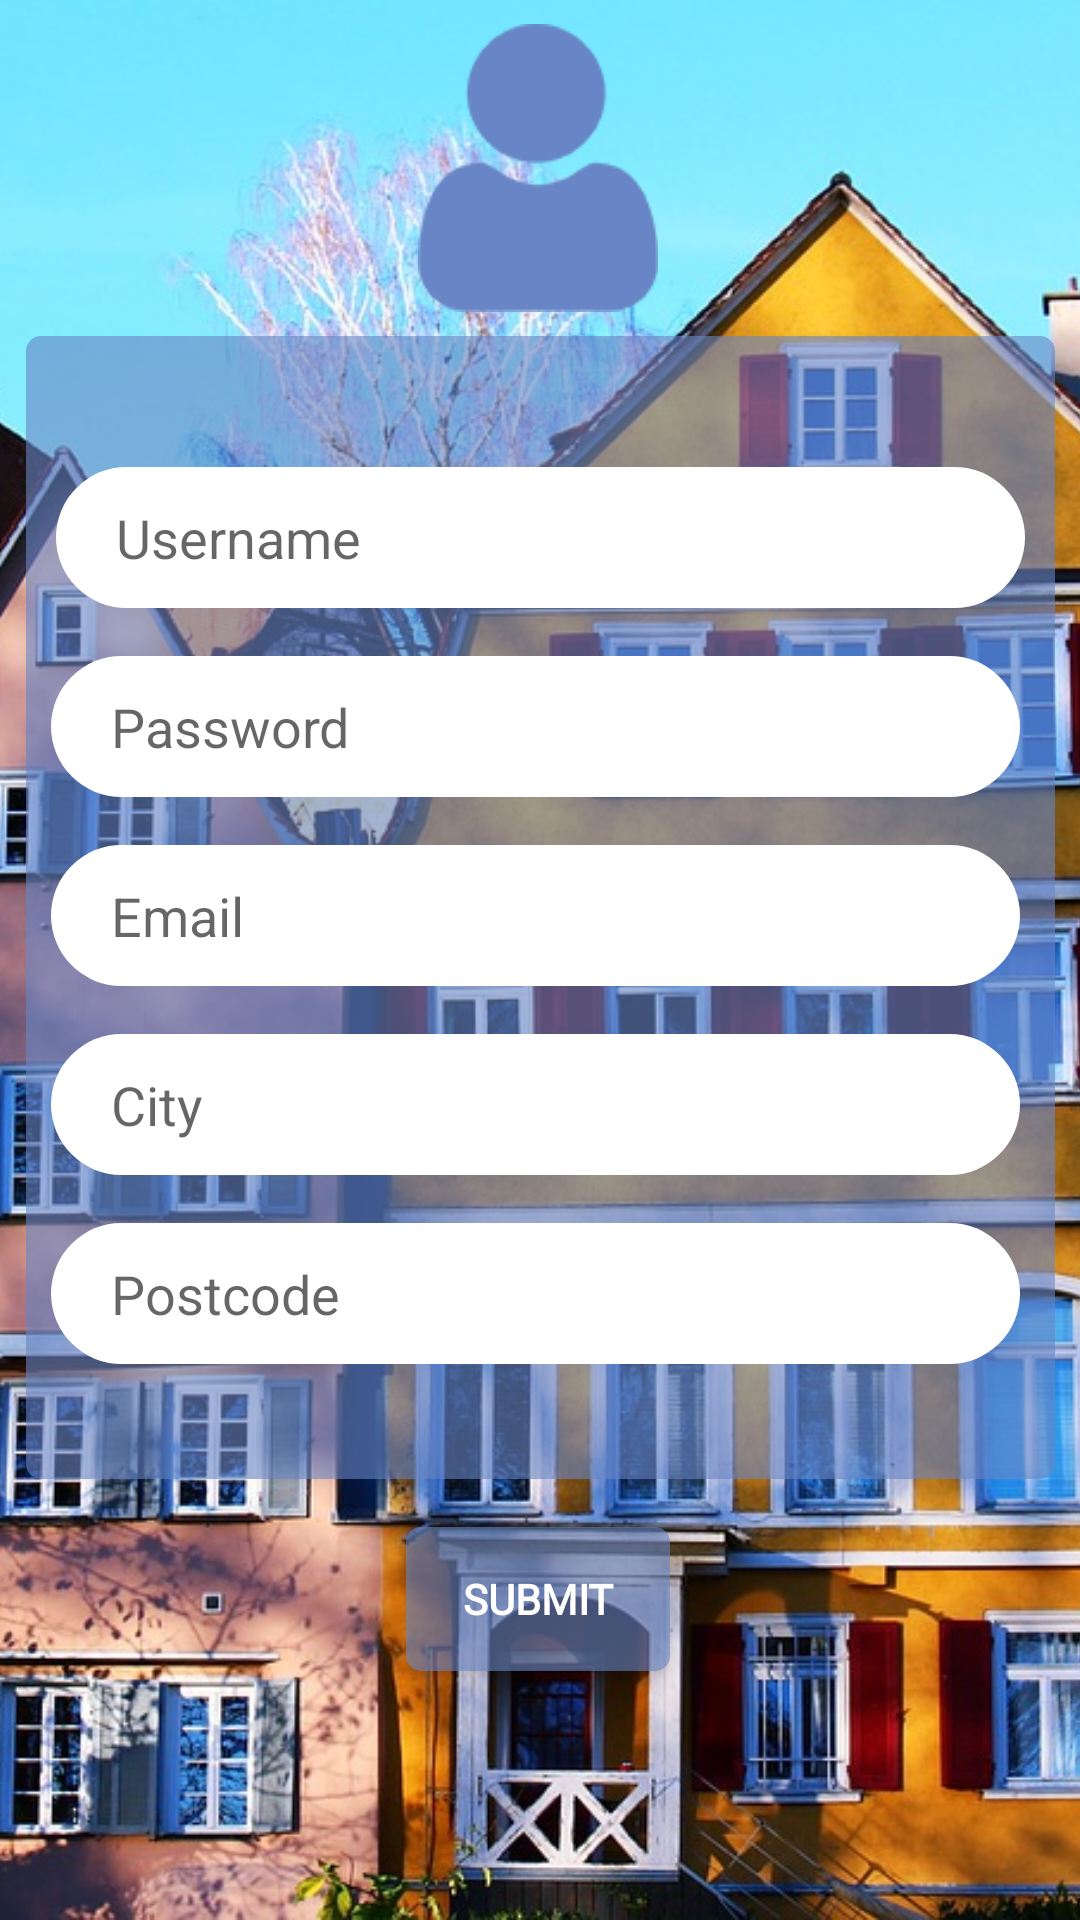

Point at icon controls on the screen. Image size 1080w x 1920h, points as point (x, y).
user: point (538, 168)
